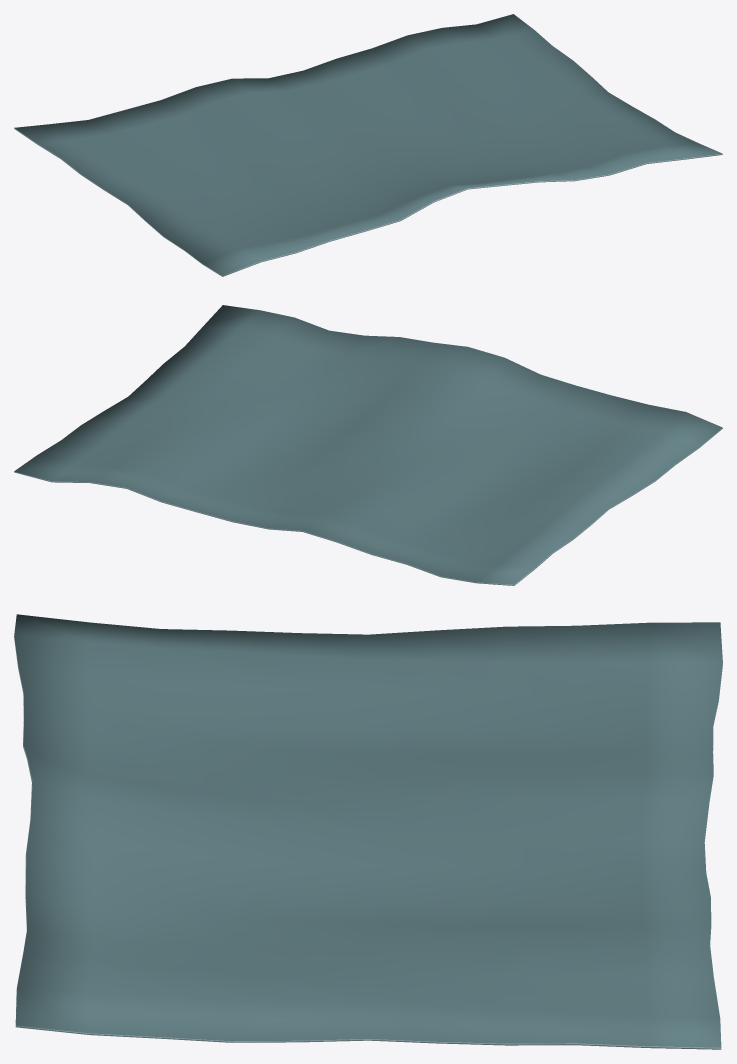
The model's file is ClingFilm_Sheet.fbx.
3 renders of one model, top to bottom at view 1: azimuth 30°, elevation 25°; view 2: azimuth 150°, elevation 25°; view 3: azimuth 270°, elevation 25°, orthographic. The views are drawn at different scales.
Visible parts, largest first — view 1: Unrolled sheet; view 2: Unrolled sheet; view 3: Unrolled sheet.
Part boxes in pixels (bbox=[...]): Unrolled sheet: bbox=[14, 14, 722, 276]; Unrolled sheet: bbox=[14, 305, 722, 585]; Unrolled sheet: bbox=[14, 614, 722, 1049].
Bounding box in the file's own units: 0.1835 × 0.0139 × 0.1335.
